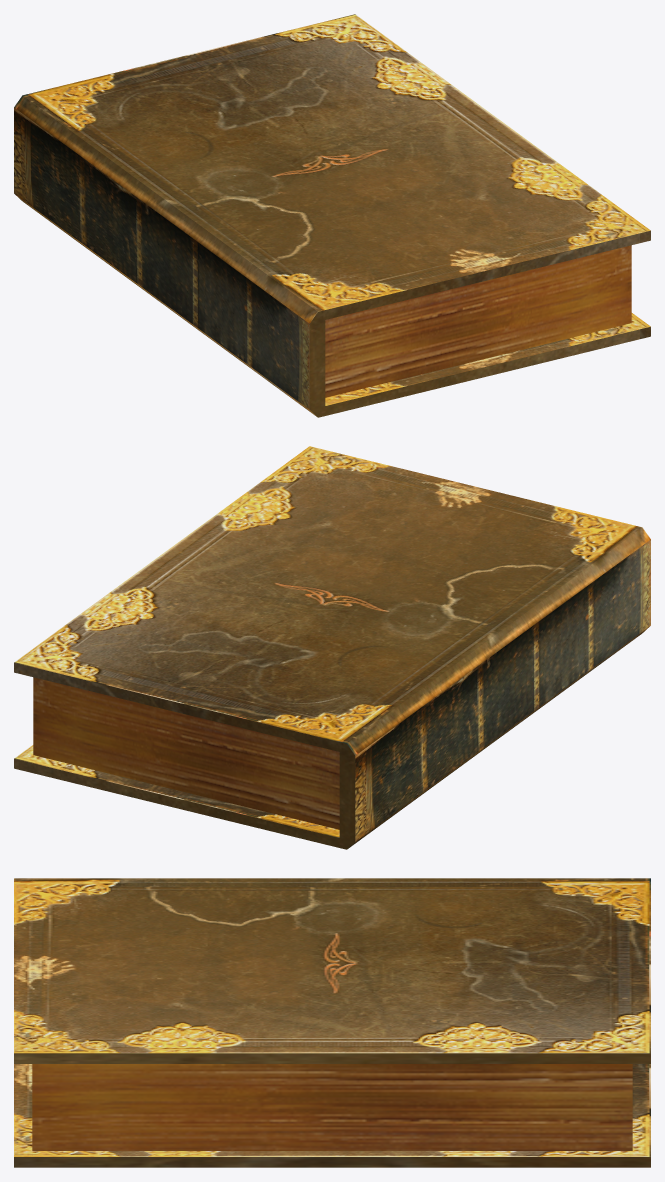
The model's file is book.fbx.
3 renders of one model, top to bottom at view 1: azimuth 30°, elevation 25°; view 2: azimuth 150°, elevation 25°; view 3: azimuth 270°, elevation 25°, orthographic. The views are drawn at different scales.
Parts seen in each view (by area): view 1: Mesh; view 2: Mesh; view 3: Mesh.
Part boxes in pixels (bbox=[...]): Mesh: bbox=[14, 14, 650, 417]; Mesh: bbox=[14, 446, 650, 849]; Mesh: bbox=[14, 878, 650, 1167].
Bounding box in the file's own units: 35.45 × 10.52 × 53.2.
